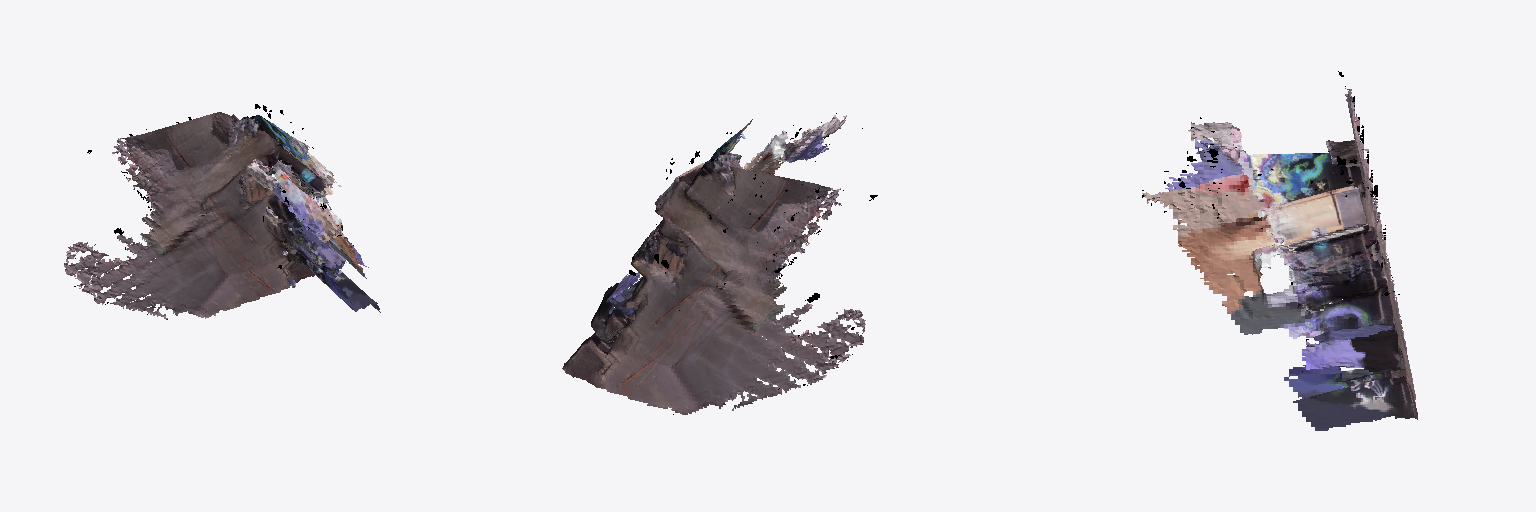
3 renders of one model, left to right at view 1: azimuth 30°, elevation 25°; view 2: azimuth 150°, elevation 25°; view 3: azimuth 270°, elevation 25°, orthographic.
Size of the model in its own units: 6.98 by 5.44 by 5.82.
1 materials, 1 textured.